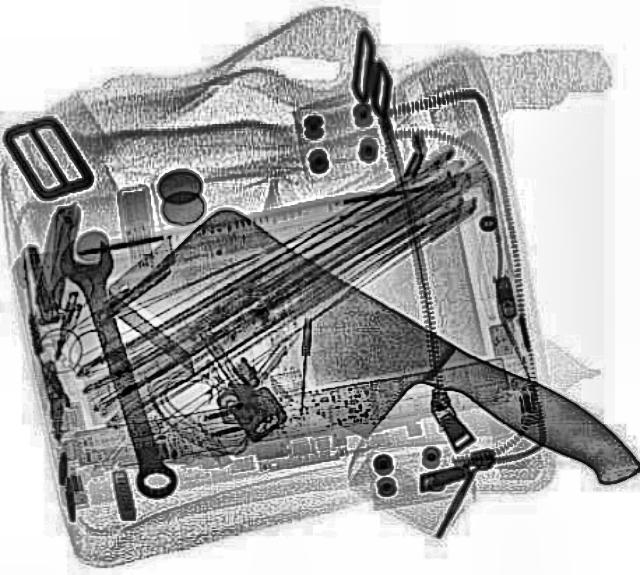Knife: (136, 200, 638, 550)
Wrench: (53, 233, 185, 503)
